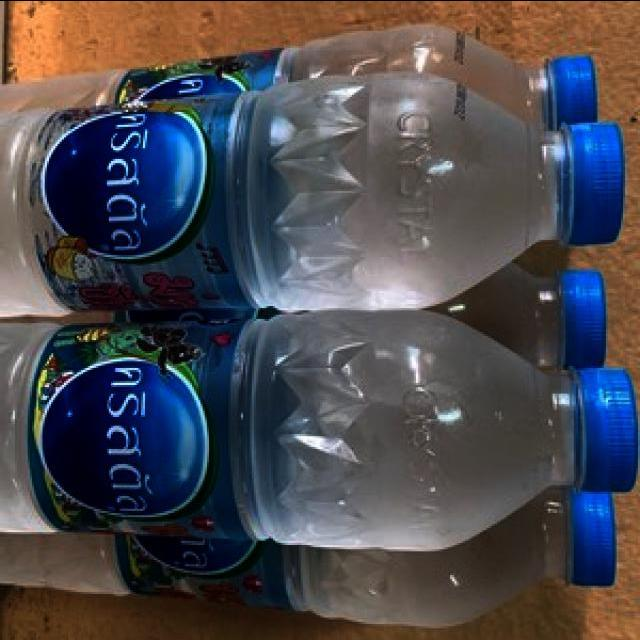cap: (557, 358, 640, 502), (550, 116, 628, 248), (551, 262, 611, 368)
label: (28, 86, 258, 312), (26, 312, 246, 538)
not-crumbled: (0, 66, 635, 326), (0, 314, 640, 556)
